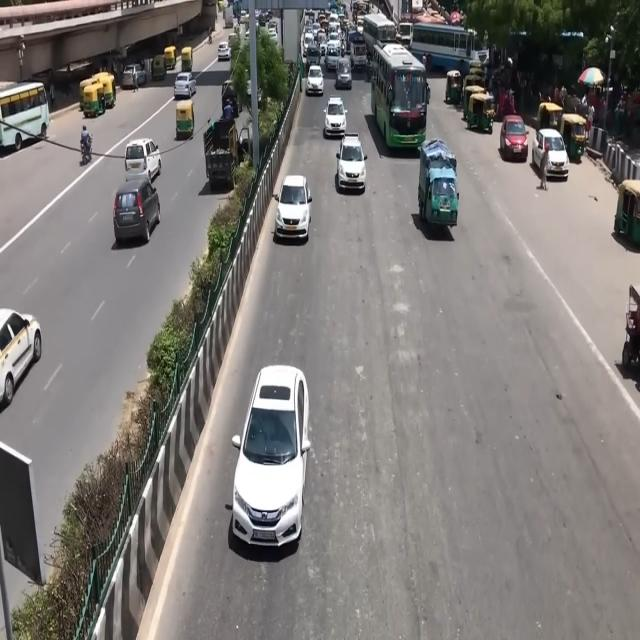auto: (619, 178, 640, 262), (560, 110, 589, 170), (468, 91, 497, 138), (538, 98, 560, 153), (172, 100, 196, 149), (463, 76, 485, 125), (82, 80, 103, 118), (95, 73, 119, 104), (164, 41, 178, 70), (181, 44, 193, 74)
bike-auto: (74, 119, 96, 173)
